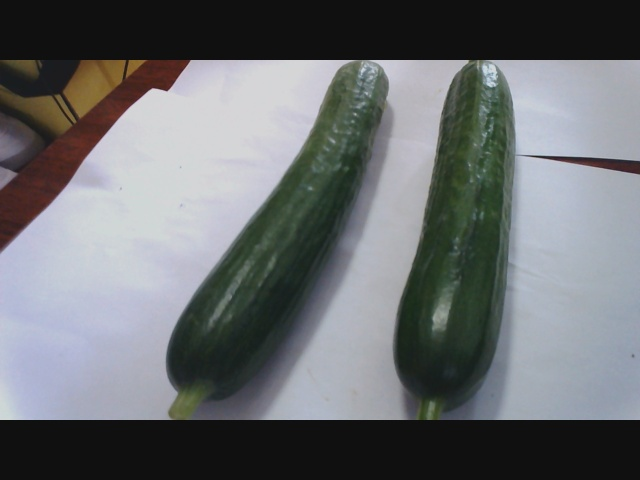cucumber: (168, 62, 385, 410), (396, 72, 539, 409)
